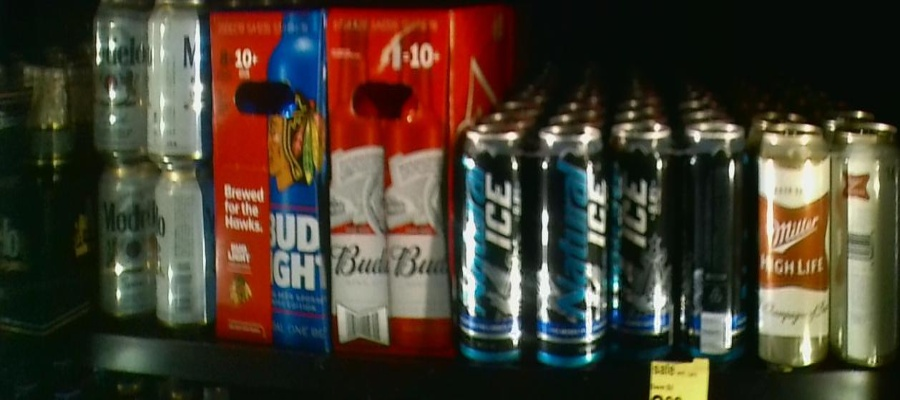bottle: (207, 9, 331, 355), (330, 9, 451, 355), (88, 1, 210, 329), (459, 128, 607, 368), (754, 126, 897, 371), (609, 131, 750, 359)
